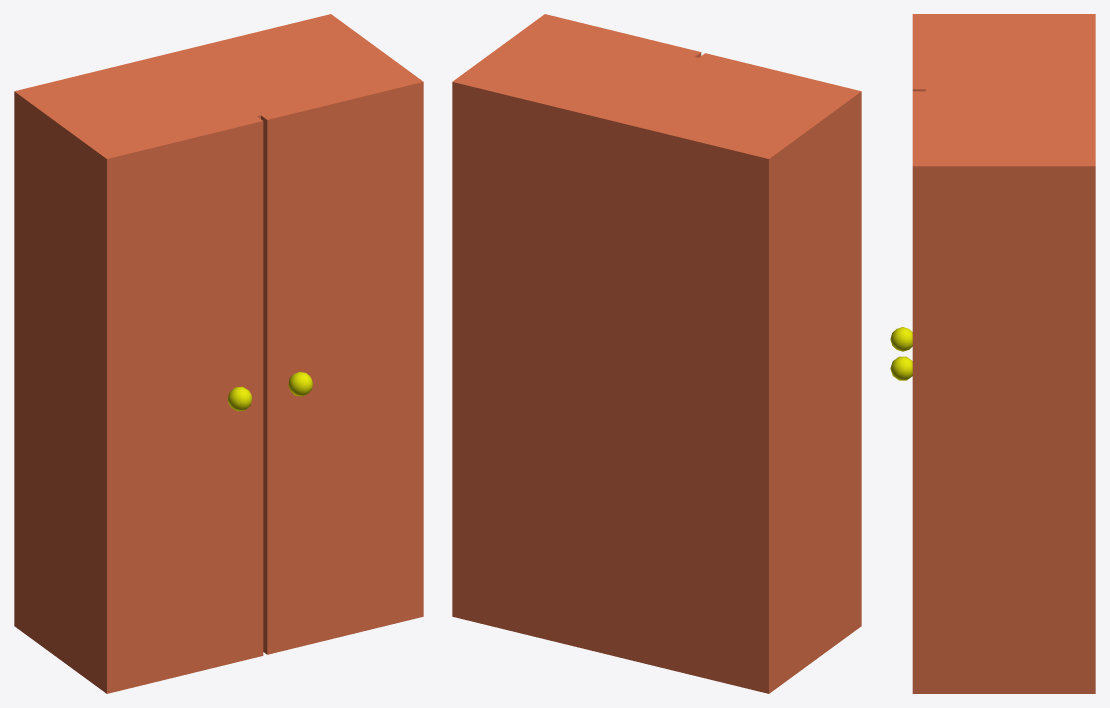
Rendered from ShelfClothet.fbx.
3 views of the same model, side by side, from view 1: azimuth 30°, elevation 25°; view 2: azimuth 150°, elevation 25°; view 3: azimuth 270°, elevation 25° (orthographic).
Parts seen in each view (by area): view 1: Куб.002, Куб.003, Shkaf; view 2: Shkaf, Куб.002, Куб.003; view 3: Shkaf, Куб.003, Куб.002.
Boxes of the visible parts, x1,y1,x2,y2 form: Куб.002: (100,116,263,693); Куб.003: (261,77,423,654); Shkaf: (14,14,416,688); Shkaf: (452,18,855,693); Куб.002: (699,53,861,630); Куб.003: (539,14,701,57); Shkaf: (925,14,1095,693); Куб.003: (890,91,925,693); Куб.002: (890,14,925,351).
Size of the model in its own units: 138 by 222 by 78.28.
